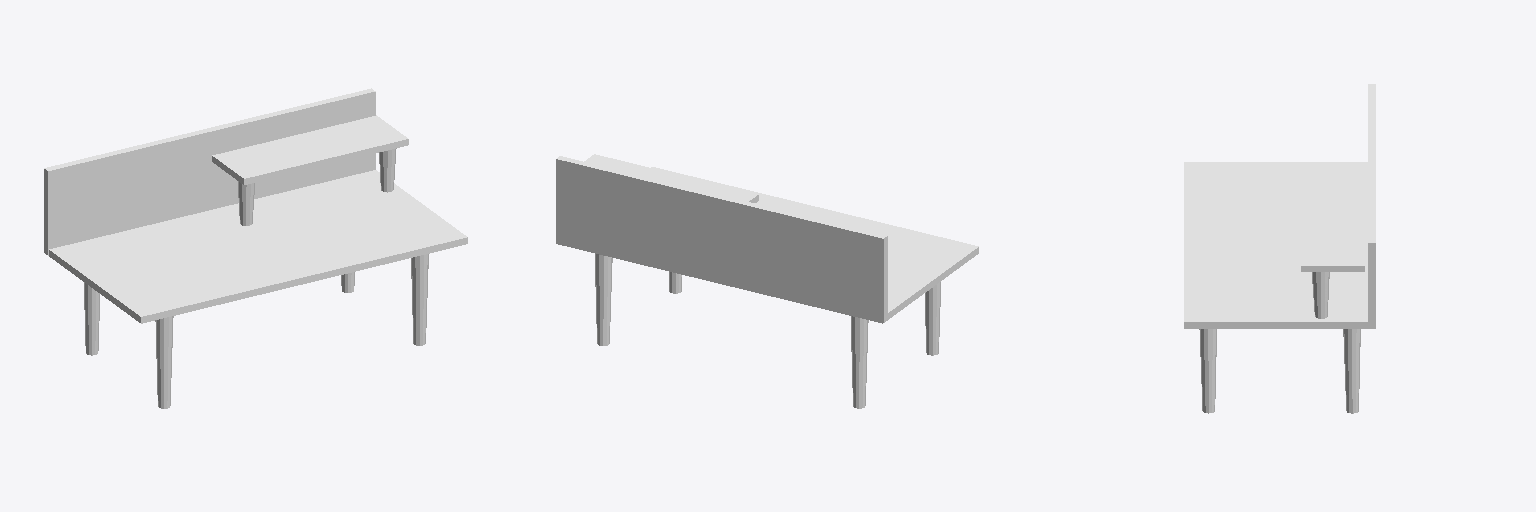
Rendered from B_WorkBench2016.obj.
3 views of the same model, side by side, from view 1: azimuth 30°, elevation 25°; view 2: azimuth 150°, elevation 25°; view 3: azimuth 270°, elevation 25° (orthographic).
Parts seen in each view (by area): view 1: WorkBench_Table2016, TableBack, Topshelf, ShelfLeg, ShelfLeg2; view 2: TableBack, WorkBench_Table2016, Topshelf; view 3: WorkBench_Table2016, Topshelf, TableBack, ShelfLeg2.
Boxes of the visible parts, <box> form: WorkBench_Table2016: <box>49,170,467,408</box>; TableBack: <box>44,88,375,255</box>; Topshelf: <box>212,115,408,184</box>; ShelfLeg: <box>238,181,254,225</box>; ShelfLeg2: <box>379,148,396,192</box>; TableBack: <box>556,156,887,322</box>; WorkBench_Table2016: <box>558,167,978,408</box>; Topshelf: <box>584,154,758,202</box>; WorkBench_Table2016: <box>1184,162,1375,413</box>; Topshelf: <box>1301,186,1364,271</box>; TableBack: <box>1368,84,1375,321</box>; ShelfLeg2: <box>1312,272,1329,318</box>.
Size of the model in its own units: 1.54 by 0.8273 by 0.7824.